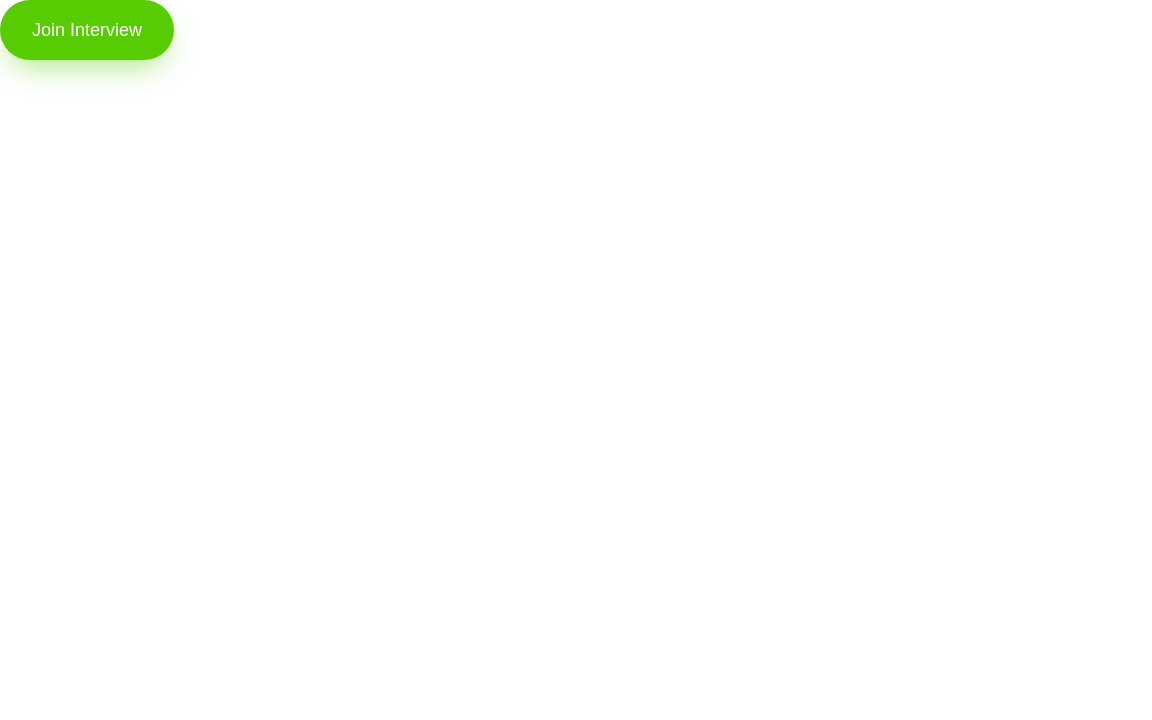
it: JoinInterview › Participant Join stays on this page for the start popup, then Skip goes to /call
Later steps or results of the test are not shown.
What coordinates should you click on to do the following:
click the button "Join Interview"
I would click on:
 (87, 30)
Its box is [0,0,174,60].
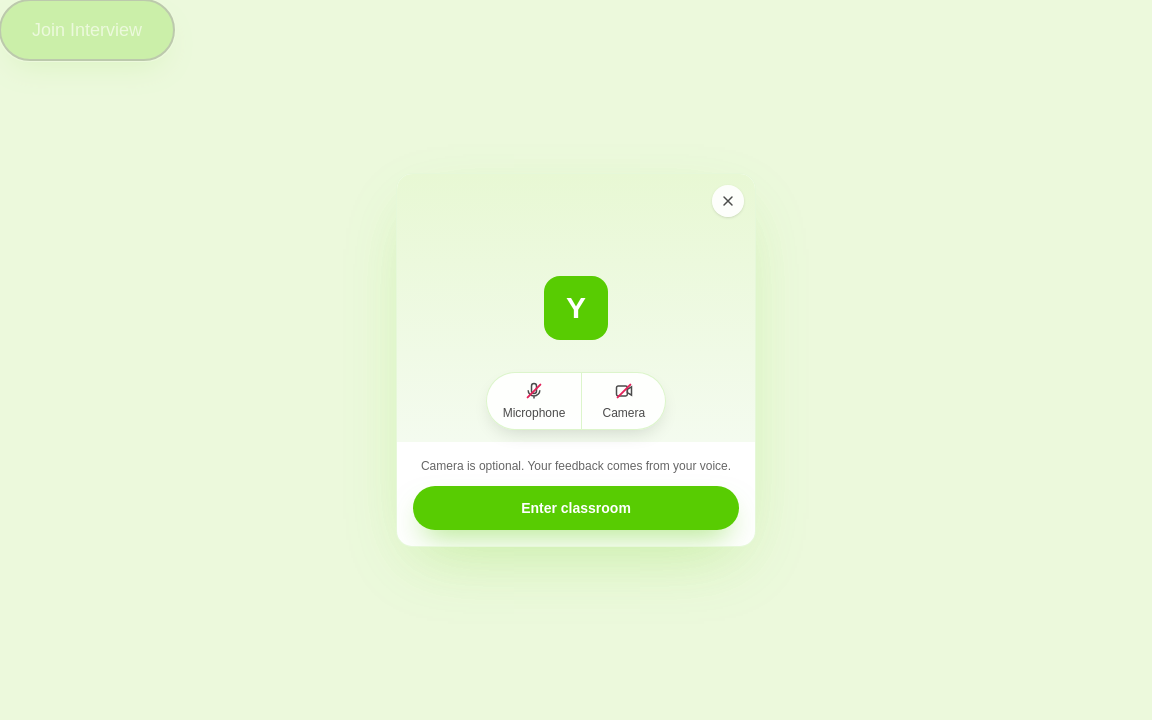
What coordinates should you click on to do the following:
click the button "Enter classroom"
I would click on:
 (576, 508)
Its box is [413,486,739,530].
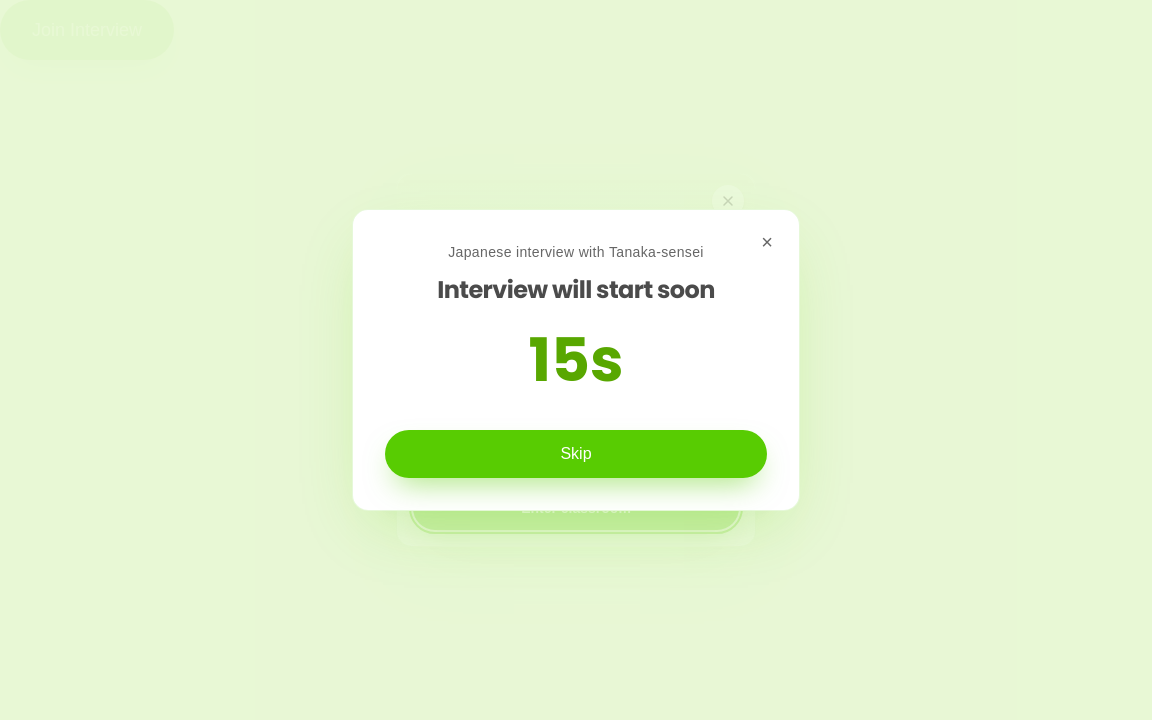
Expected: the dialog named "ready to join" is shown
Expected: the dialog "Interview will start soon" is shown, [352,209,800,511]
